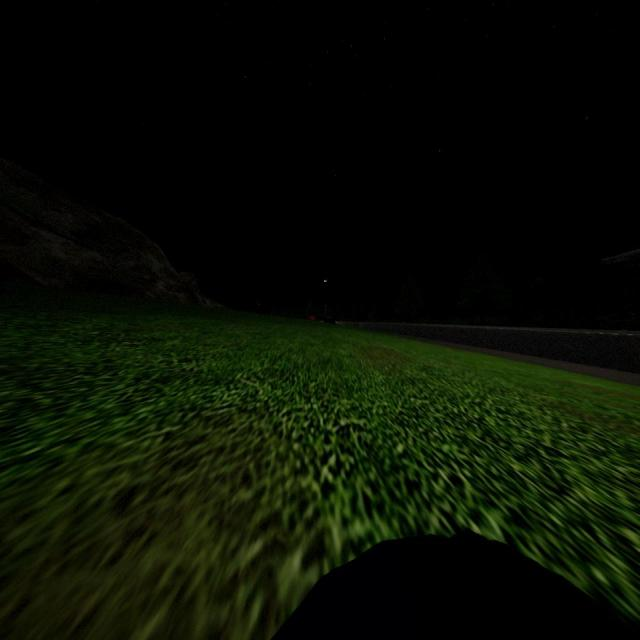Vehicle: (322, 316, 336, 324), (306, 315, 316, 321)
